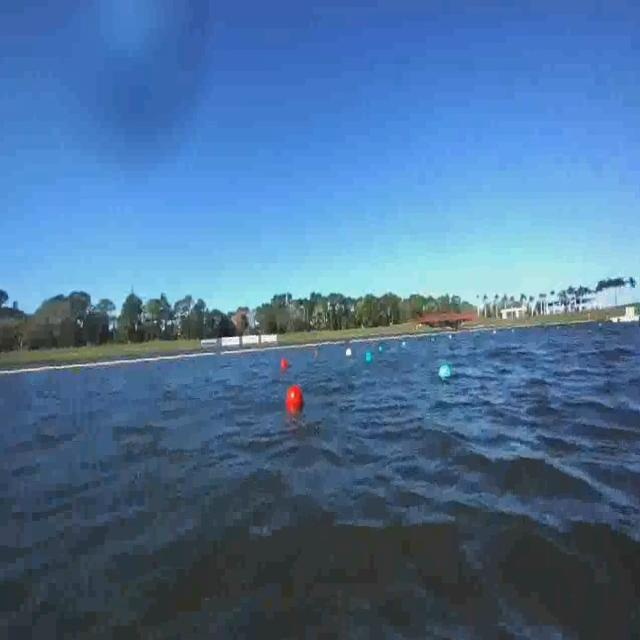green-buoy: (440, 362, 452, 378), (364, 351, 373, 365)
red-buoy: (287, 384, 303, 408)
red-column-buoy: (282, 358, 288, 369)
yellow-buoy: (346, 346, 354, 360)
